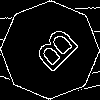B: (25, 25, 82, 81)
